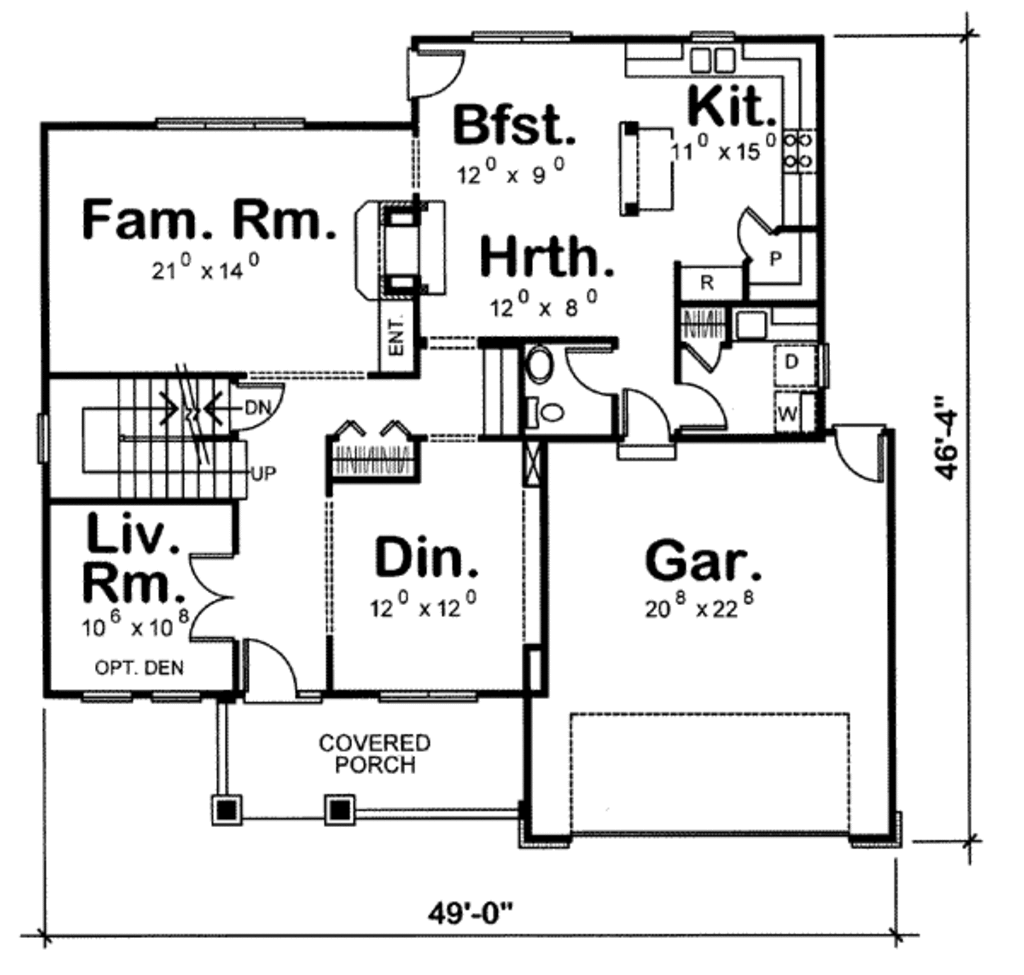door: (181, 541, 256, 647), (233, 633, 303, 711), (612, 383, 678, 462), (830, 415, 900, 483), (405, 44, 475, 108), (227, 378, 297, 433), (556, 335, 615, 397), (675, 378, 735, 436), (732, 205, 785, 265), (684, 330, 732, 377)
large_sink: (520, 392, 576, 444)
small_sink: (511, 332, 563, 406)
stairs: (67, 374, 249, 503)
twin_sink: (693, 30, 748, 81)
window: (150, 109, 309, 135), (372, 684, 481, 706), (32, 411, 66, 466), (469, 26, 572, 42), (148, 684, 203, 711), (84, 687, 126, 697)
